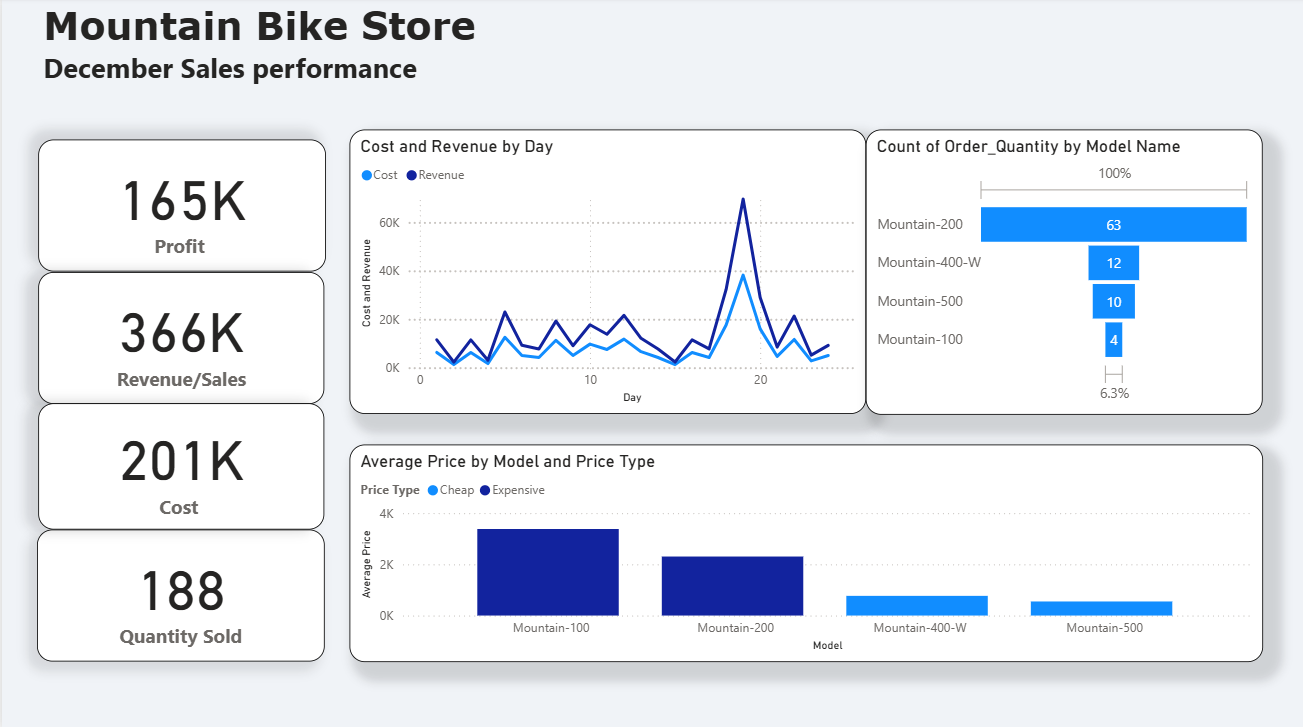

The dashboard page shown, as its layout file describes it:
{"tool":"powerbi","page":{"name":"Page ١","canvas":[1280,720],"ordinal":0},"visuals":[{"type":"card","fields":{"Values":["Sum(Bike Sales. Profit )"]},"box":[58.4,129.7,282.2,129.7],"z":0},{"type":"card","fields":{"Values":["Sum(Bike Sales.Revenue)"]},"box":[59.4,258.9,280.8,129.7],"z":1000},{"type":"card","title":"Unit sold","fields":{"Values":["Sum(Bike Sales.Order_Quantity)"]},"box":[58.4,511.7,282.2,129.7],"z":2000},{"type":"lineChart","fields":{"Category":["Bike Sales.Day"],"Y":["Sum(Bike Sales. Cost )","Sum(Bike Sales.Revenue)"]},"box":[340.7,129.7,507.4,279.4],"z":3000},{"type":"columnChart","fields":{"Y":["Avg(Bike Sales. Unit_Cost )"],"Category":["Bike Sales.Model Name","Bike Sales.Price Type"]},"box":[340.7,426.2,896.6,213.8],"z":4000},{"type":"pieChart","fields":{"Y":["CountNonNull(Bike Sales.Order_Quantity)"],"Category":["Bike Sales.Model Name"]},"box":[848,130.4,389.7,279.9],"z":5000},{"type":"card","fields":{"Values":["Sum(Bike Sales. Cost )"]},"box":[58.9,388.2,280.8,124],"z":6000}]}

Visuals, with their boxes in screenshot pixels (x1, y1, x2, y2), scaled from the page's 1280x720 canvas onto the 1303x727 screenshot:
card - Sum(Bike Sales. Profit ): bbox=(59, 131, 347, 262)
card - Sum(Bike Sales.Revenue): bbox=(60, 261, 346, 392)
"Unit sold" card: bbox=(59, 517, 347, 648)
lineChart - Bike Sales.Day x Sum(Bike Sales. Cost ): bbox=(347, 131, 863, 413)
columnChart - Avg(Bike Sales. Unit_Cost ) x Bike Sales.Model Name: bbox=(347, 430, 1260, 646)
pieChart - CountNonNull(Bike Sales.Order_Quantity) x Bike Sales.Model Name: bbox=(863, 132, 1260, 414)
card - Sum(Bike Sales. Cost ): bbox=(60, 392, 346, 517)
